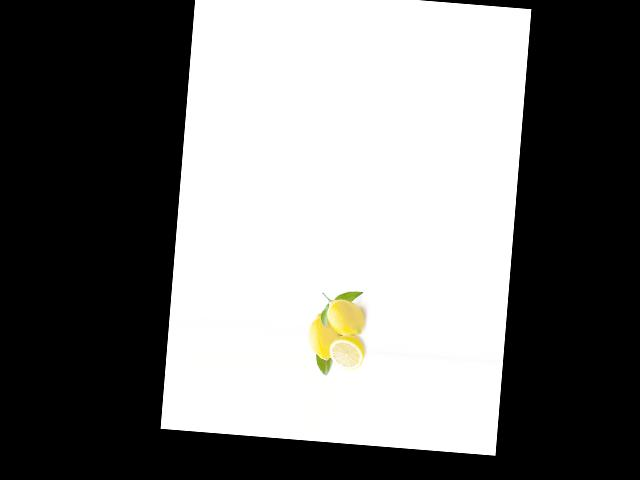lemon: (304, 310, 343, 359)
